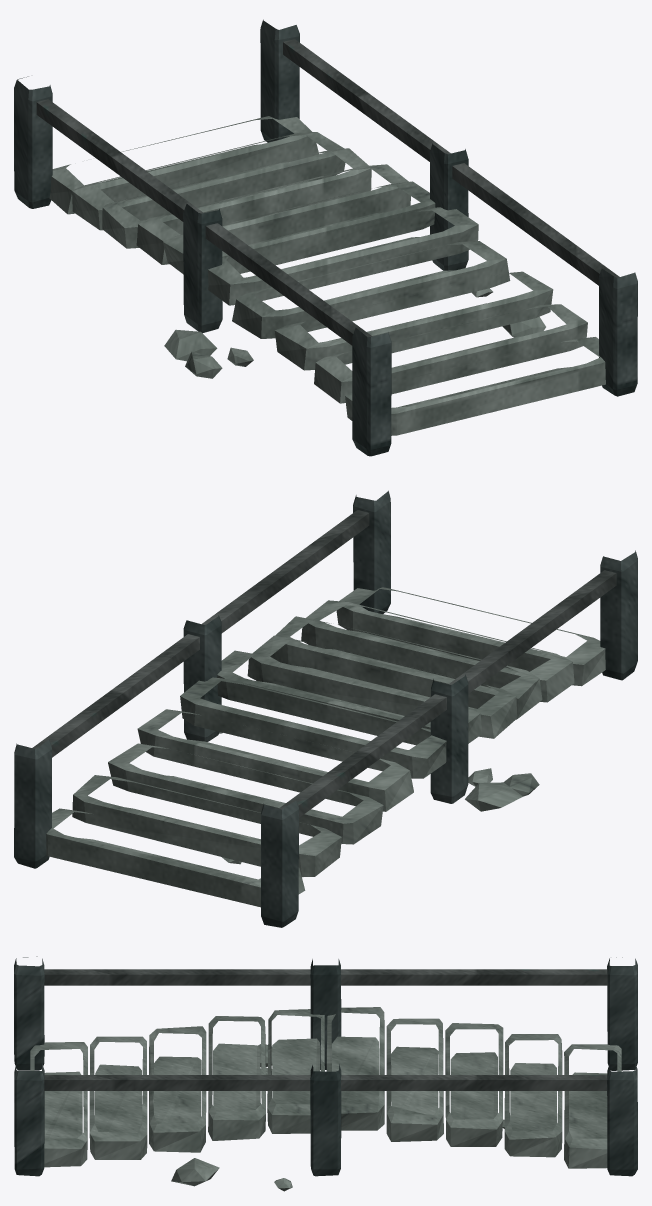
The model's file is 0392_ruined_bridge_17.glb.
3 renders of one model, top to bottom at view 1: azimuth 30°, elevation 25°; view 2: azimuth 150°, elevation 25°; view 3: azimuth 270°, elevation 25°, orthographic. The views are drawn at different scales.
Parts seen in each view (by area): view 1: stone, stone_dark, iron; view 2: stone, stone_dark, iron; view 3: stone, stone_dark, iron.
Boxes of the visible parts, box(x1,y1,x2,y2) form: stone: box(49, 116, 605, 435); stone_dark: box(14, 19, 637, 456); iron: box(36, 39, 619, 345); stone: box(46, 587, 605, 907); stone_dark: box(14, 490, 637, 927); iron: box(32, 510, 616, 817); stone: box(30, 1007, 621, 1191); stone_dark: box(14, 956, 637, 1176); iron: box(44, 969, 607, 1090).
Size of the model in its own units: 2.61 by 1.09 by 5.14.
3 materials, 3 textured.
